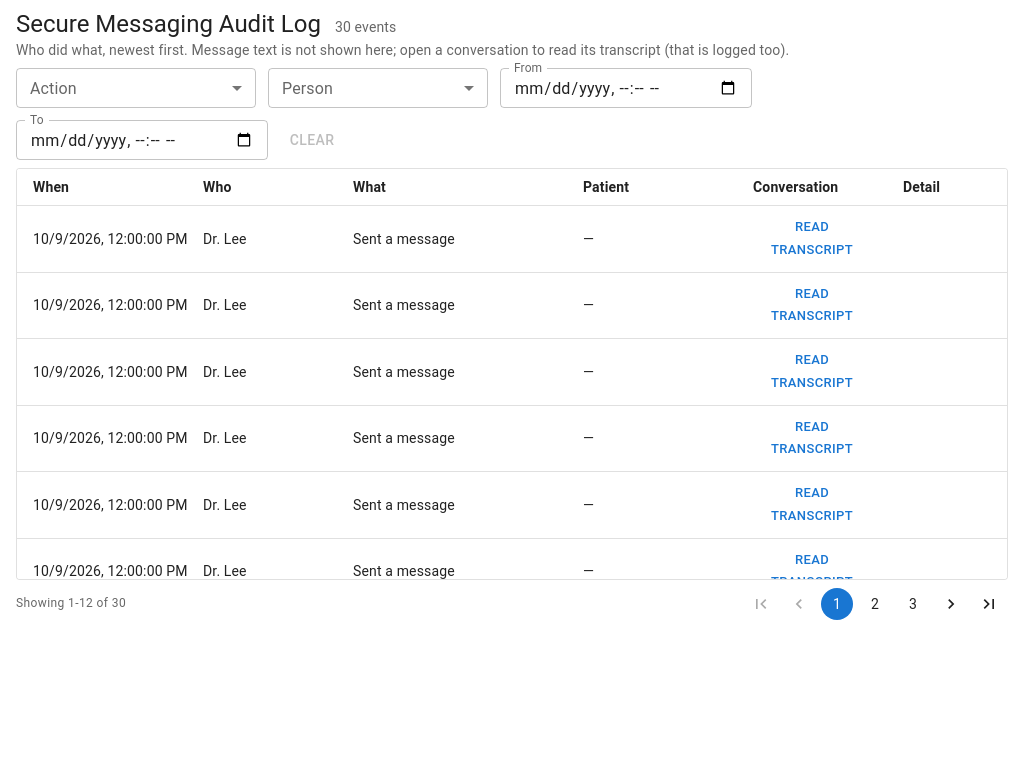
Scenario: shows 12 events a page with a range and page buttons
The image size is (1024, 768).
Expected: the row with test id "audit-row-30" is shown, [17,206,1007,272]
Expected: the text with test id "audit-range" reads "Showing 1-12 of 30", [16,594,126,614]
Click the button named "go to page 3" at (913, 604), box [897,588,929,620]
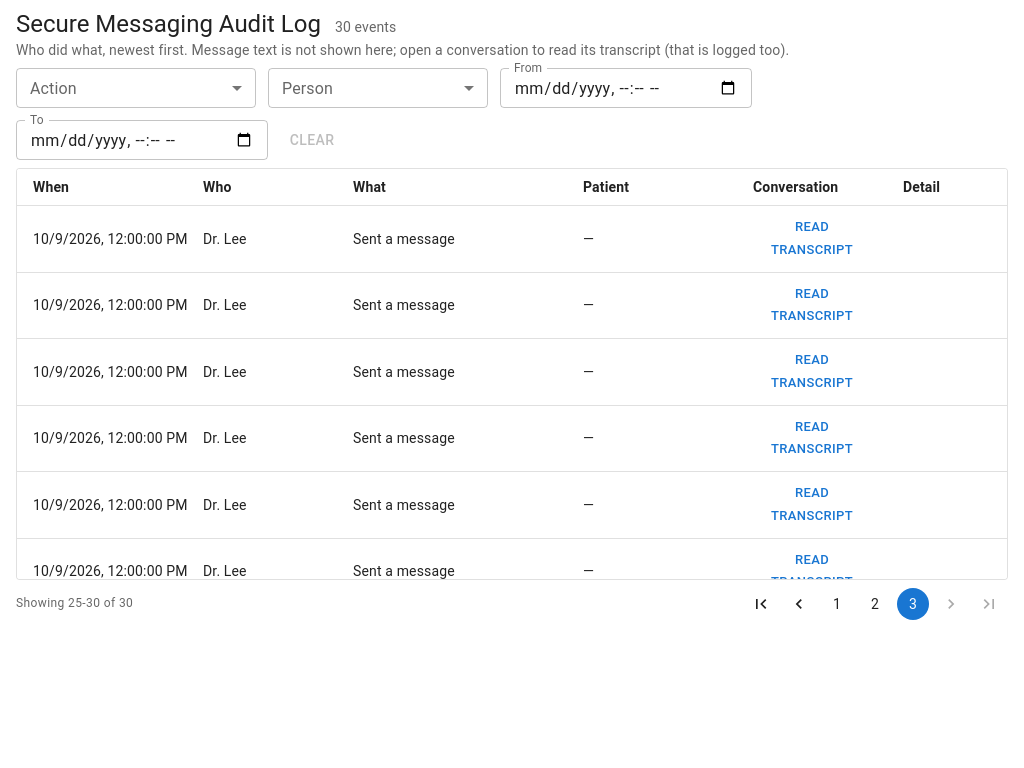
Expected: the row with test id "audit-row-1" is shown, [17,538,1007,580]
Result: the text with test id "audit-range" reads "Showing 25-30 of 30" at [16,594,133,614]
